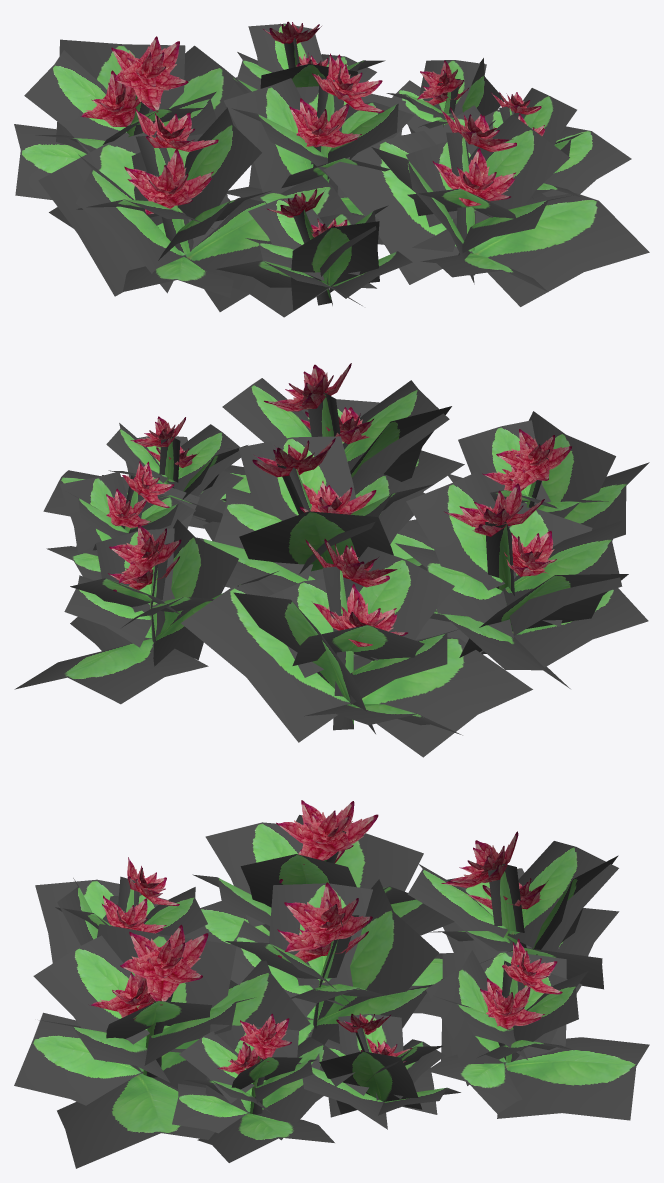
Rendered from Flowers.fbx.
3 renders of one model, top to bottom at view 1: azimuth 30°, elevation 25°; view 2: azimuth 150°, elevation 25°; view 3: azimuth 270°, elevation 25°, orthographic. The views are drawn at different scales.
Parts seen in each view (by area): view 1: Leaf.008; view 2: Leaf.008; view 3: Leaf.008.
Boxes of the visible parts, bbox=[...] form: Leaf.008: bbox=[14, 21, 649, 317]; Leaf.008: bbox=[14, 363, 649, 757]; Leaf.008: bbox=[14, 800, 649, 1168].
Bounding box in the file's own units: 207 × 67.62 × 197.
